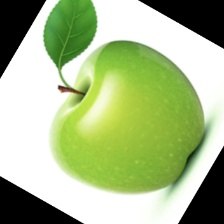apple: (30, 24, 224, 212)
